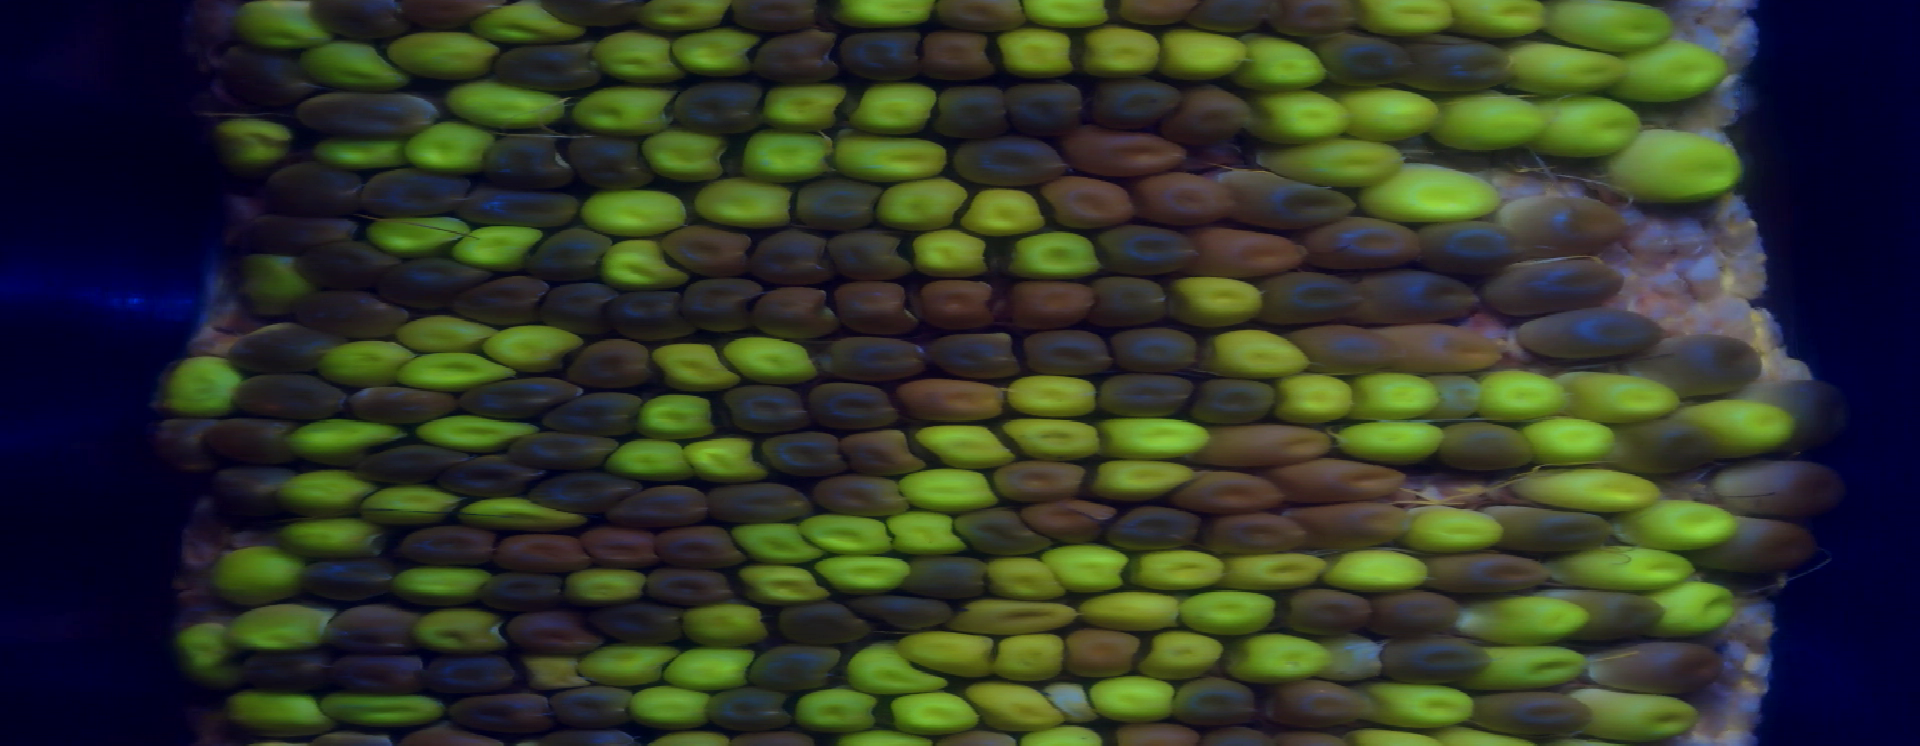fluorescent: (1359, 165, 1509, 225), (1614, 134, 1741, 198), (1615, 42, 1727, 111), (1562, 363, 1682, 424), (1218, 625, 1337, 686), (1457, 590, 1586, 647), (1575, 687, 1700, 745), (1515, 462, 1654, 513), (1553, 543, 1691, 594), (1551, 1, 1679, 56), (1693, 397, 1796, 464), (1247, 83, 1357, 145), (1430, 96, 1551, 151), (1262, 136, 1390, 187), (1357, 679, 1480, 731), (1620, 499, 1740, 552), (1329, 416, 1453, 468), (277, 416, 414, 463), (415, 412, 544, 461), (223, 1, 354, 48), (1097, 413, 1218, 463), (840, 134, 953, 187), (1536, 98, 1636, 158), (454, 80, 577, 129), (1393, 503, 1509, 554), (1504, 44, 1630, 89), (638, 125, 733, 184), (1523, 415, 1622, 472), (1466, 644, 1586, 691), (700, 171, 798, 228), (316, 690, 448, 731), (899, 632, 998, 687), (1316, 546, 1430, 594), (1000, 414, 1104, 465), (1333, 88, 1442, 137), (851, 639, 948, 695), (458, 497, 594, 537), (1147, 29, 1250, 81), (211, 551, 309, 605), (299, 44, 411, 91), (1038, 540, 1138, 593), (1653, 586, 1740, 644), (913, 424, 1020, 472), (1120, 546, 1229, 593), (354, 481, 465, 527), (1277, 371, 1358, 434), (209, 119, 305, 171), (587, 189, 692, 236), (951, 597, 1084, 635), (391, 32, 500, 77), (154, 356, 244, 412), (415, 608, 516, 657), (660, 646, 763, 693), (891, 468, 997, 514), (722, 334, 822, 383), (735, 563, 834, 612), (571, 89, 681, 134), (402, 122, 498, 173), (1227, 544, 1329, 592), (1216, 330, 1311, 380), (468, 7, 589, 47), (649, 341, 736, 394), (1168, 274, 1259, 326), (984, 550, 1075, 601), (680, 436, 771, 486), (1353, 1, 1469, 40), (607, 440, 700, 489), (1093, 454, 1196, 499), (678, 605, 778, 650), (227, 690, 331, 733), (311, 347, 421, 387), (224, 608, 331, 649), (1359, 371, 1445, 423), (1238, 37, 1330, 85), (180, 622, 247, 687), (818, 554, 920, 597), (1082, 675, 1178, 720), (365, 218, 471, 258), (396, 352, 516, 387), (760, 78, 847, 127), (284, 517, 396, 555), (235, 256, 309, 314), (857, 78, 936, 132), (800, 512, 890, 559), (966, 187, 1049, 238), (888, 693, 980, 739), (1010, 232, 1100, 278), (669, 31, 759, 76), (883, 178, 969, 225), (269, 475, 373, 514), (606, 238, 687, 288), (740, 134, 836, 175), (964, 693, 1073, 730), (998, 28, 1078, 78), (796, 687, 884, 733), (1007, 377, 1100, 420), (402, 314, 493, 356), (730, 522, 824, 563), (1482, 371, 1561, 420), (595, 29, 683, 73), (1142, 633, 1228, 679), (636, 393, 718, 440), (996, 636, 1068, 688), (1453, 1, 1550, 40), (453, 224, 541, 267), (1182, 593, 1280, 631), (1074, 593, 1182, 627), (884, 513, 972, 555), (389, 567, 496, 601), (1086, 24, 1162, 72), (629, 685, 714, 728), (819, 1, 940, 31), (563, 567, 647, 608), (323, 134, 409, 173), (916, 228, 992, 272), (493, 327, 576, 366), (589, 648, 669, 684), (629, 1, 736, 27), (1020, 1, 1116, 28)
nonfluorescent: (1641, 330, 1767, 399), (1690, 514, 1826, 575), (1706, 461, 1838, 521), (1479, 503, 1620, 559), (296, 88, 440, 141), (230, 363, 351, 423), (1419, 544, 1556, 597), (1224, 170, 1356, 225), (1404, 29, 1513, 96), (1518, 311, 1664, 360), (1468, 688, 1597, 742), (1190, 423, 1333, 470), (1577, 643, 1727, 688), (1376, 325, 1507, 376), (1545, 586, 1670, 639), (1480, 266, 1631, 310), (1763, 385, 1860, 453), (1309, 213, 1424, 271), (261, 162, 380, 217), (1191, 225, 1310, 281), (1502, 196, 1618, 252), (1310, 28, 1416, 89), (1267, 457, 1416, 500), (1416, 224, 1521, 283), (1427, 423, 1540, 477), (1349, 273, 1484, 318), (1270, 671, 1380, 726), (895, 370, 1010, 423), (1286, 506, 1417, 551), (955, 138, 1070, 190), (295, 287, 404, 339), (950, 503, 1052, 560), (743, 643, 849, 696), (1282, 327, 1400, 374), (446, 691, 560, 739), (1109, 501, 1202, 559), (1376, 635, 1491, 681), (388, 260, 487, 314), (714, 385, 813, 439), (1041, 175, 1135, 232), (460, 183, 584, 225), (1136, 178, 1242, 228), (231, 209, 355, 251), (463, 369, 571, 416), (1010, 276, 1100, 333), (324, 601, 424, 653), (1202, 508, 1307, 557), (923, 330, 1024, 380), (233, 323, 340, 370), (218, 55, 322, 103), (1021, 499, 1111, 554), (1022, 323, 1111, 379), (508, 425, 618, 469), (1260, 272, 1359, 320), (1003, 80, 1089, 135), (400, 521, 498, 568), (807, 379, 900, 429), (327, 648, 427, 695), (493, 44, 602, 87), (822, 334, 924, 380), (343, 385, 462, 424), (841, 29, 929, 82), (976, 463, 1087, 505), (571, 338, 656, 392), (662, 225, 754, 276), (307, 240, 397, 292), (482, 138, 576, 187), (211, 462, 291, 518), (1185, 468, 1284, 513), (539, 390, 649, 430), (1600, 428, 1711, 468), (1064, 129, 1180, 167), (366, 170, 471, 212), (1100, 224, 1187, 274), (1111, 327, 1198, 377), (239, 650, 329, 698), (1193, 371, 1276, 423), (790, 183, 882, 229), (1363, 590, 1472, 630), (756, 285, 839, 336), (419, 650, 522, 691), (1292, 586, 1373, 637), (1100, 372, 1193, 416), (362, 441, 456, 485), (1090, 278, 1169, 330), (317, 1, 421, 40), (759, 432, 847, 478), (901, 551, 989, 597), (678, 86, 764, 132), (778, 603, 876, 643), (850, 593, 950, 632), (571, 135, 647, 186), (490, 530, 589, 570), (707, 688, 795, 733), (480, 570, 571, 612), (1167, 88, 1244, 138), (836, 282, 917, 330), (580, 522, 661, 570), (531, 233, 613, 279), (704, 486, 814, 521), (757, 36, 840, 81), (653, 524, 736, 570), (309, 554, 396, 597), (1169, 677, 1256, 720), (640, 571, 737, 609), (681, 281, 756, 330), (811, 474, 909, 511), (936, 89, 1007, 140), (839, 432, 921, 475), (920, 281, 997, 326), (216, 416, 294, 461), (934, 1, 1037, 34), (749, 233, 827, 277), (531, 475, 629, 510), (610, 488, 708, 522), (509, 614, 598, 652), (1059, 632, 1141, 673), (149, 421, 224, 465), (585, 606, 684, 639), (539, 290, 620, 331), (924, 31, 994, 77), (1092, 85, 1174, 124), (463, 279, 545, 318), (551, 688, 636, 726), (828, 233, 902, 274), (620, 293, 687, 337), (541, 1, 648, 28), (454, 459, 531, 496), (720, 1, 824, 28), (1114, 719, 1212, 746), (403, 1, 509, 26), (1106, 1, 1199, 28), (1204, 1, 1271, 36), (1201, 723, 1276, 746)
